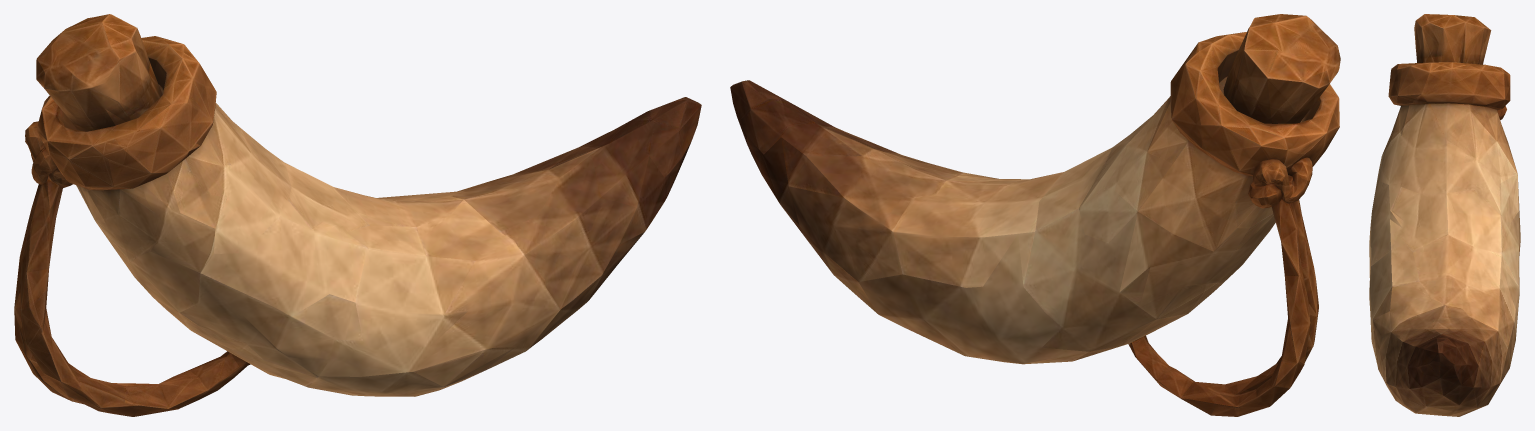
Rendered from oil-horn.glb.
3 renders of one model, left to right at view 1: azimuth 30°, elevation 25°; view 2: azimuth 150°, elevation 25°; view 3: azimuth 270°, elevation 25°, orthographic. The views are drawn at different scales.
Bounding box in the file's own units: 1.9 × 1.18 × 0.5725.
1 material, 1 textured.
